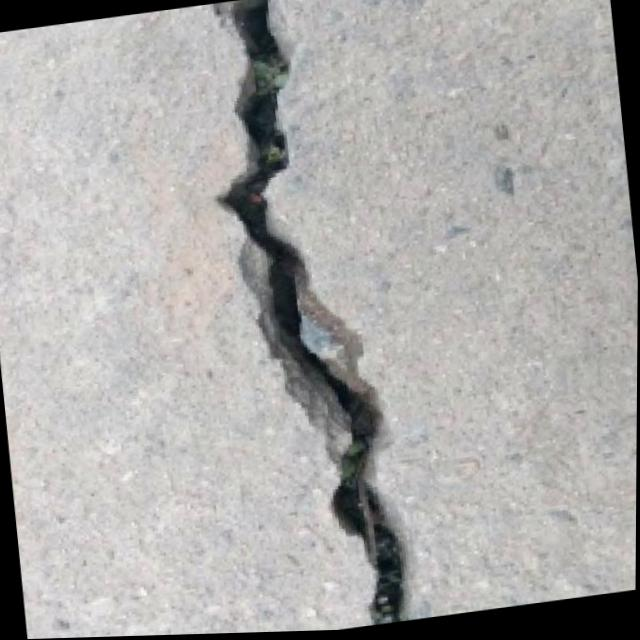Crack: (189, 0, 433, 636)
